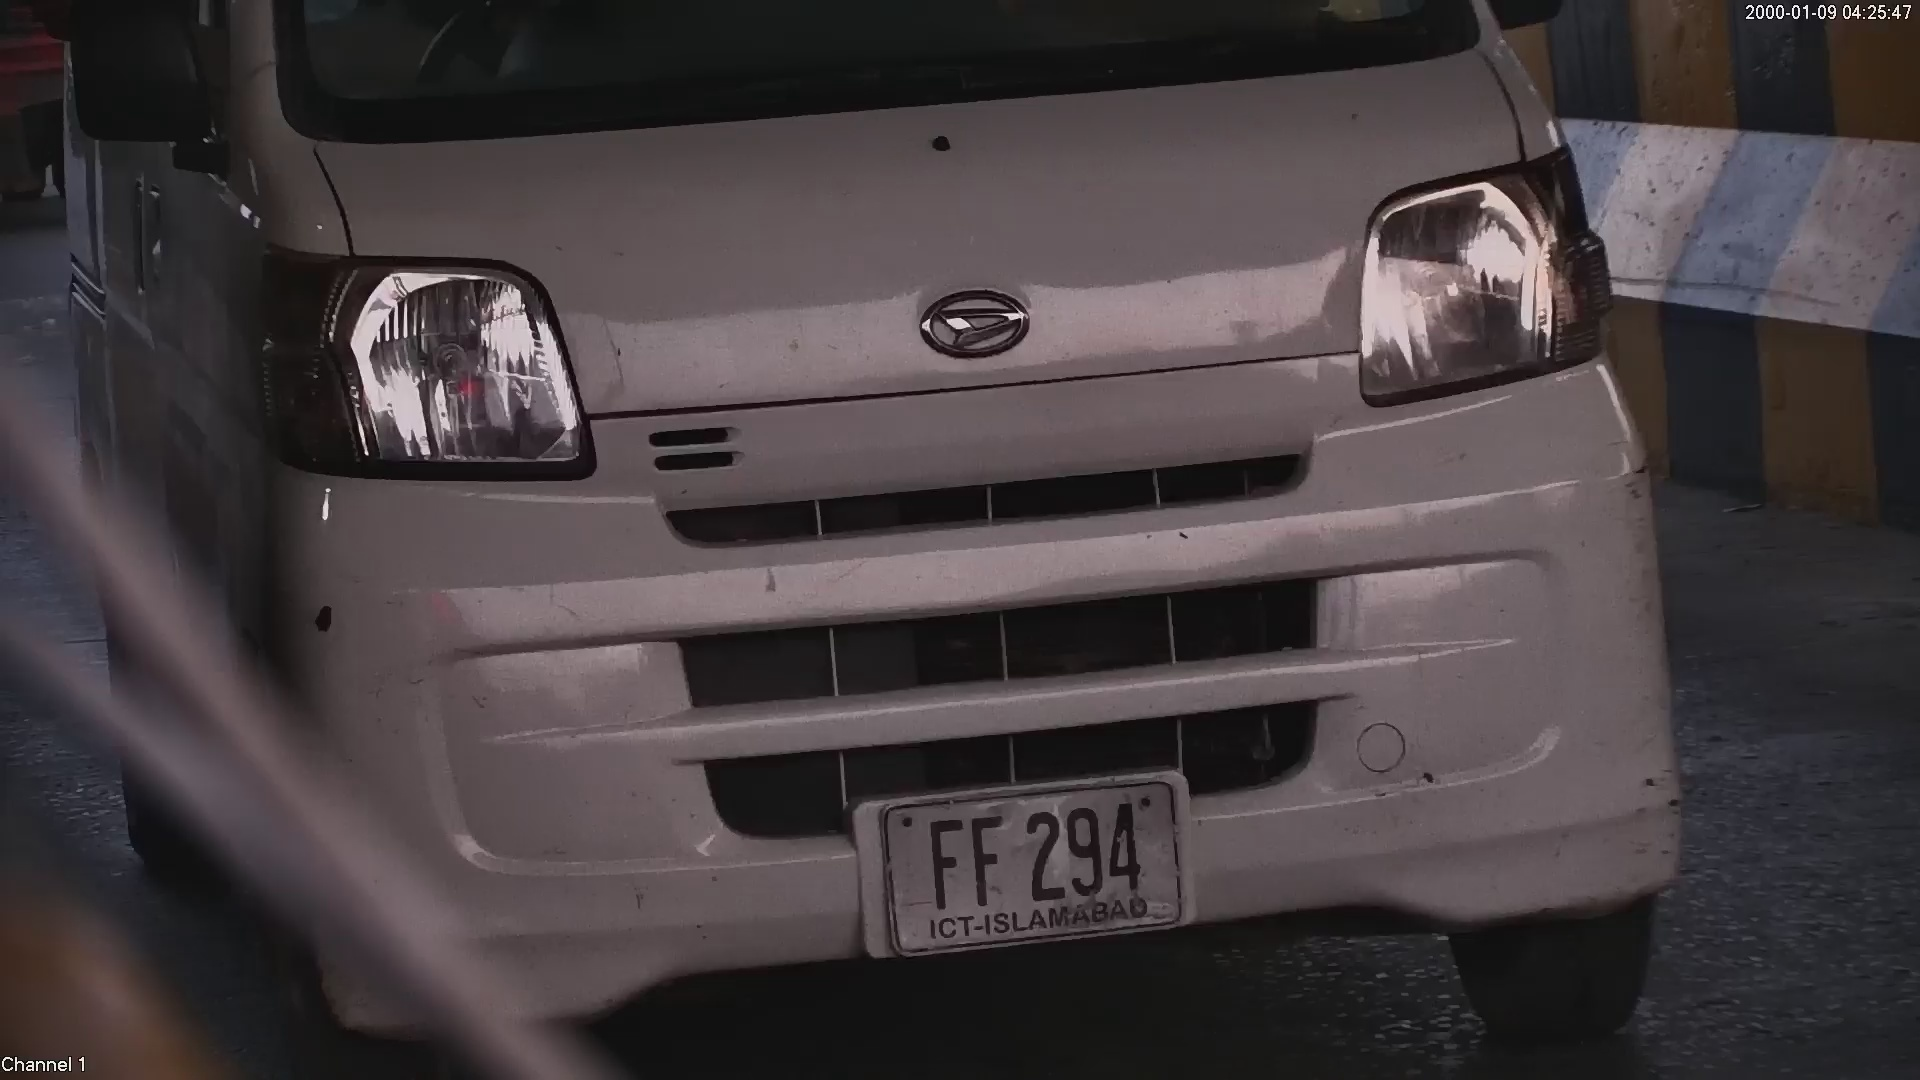Number_Plate: (841, 753, 1208, 946)
Undefined: (1339, 140, 1608, 396), (267, 255, 565, 473), (904, 279, 1045, 364)
